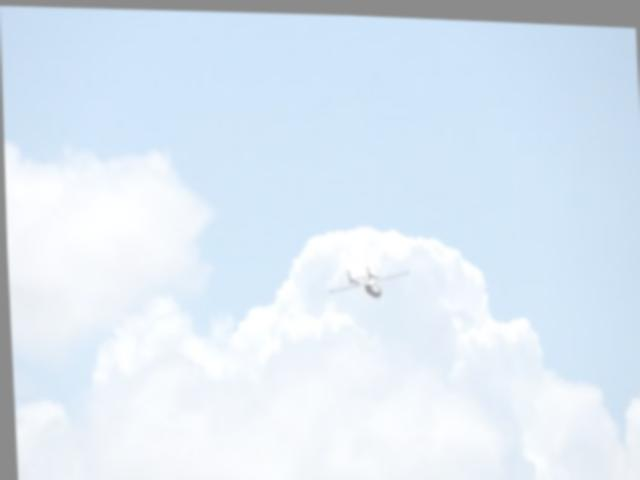uav: (322, 256, 410, 300)
